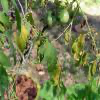Tomato mold leaf: (42, 41, 62, 90), (12, 23, 30, 58), (74, 34, 87, 58)
